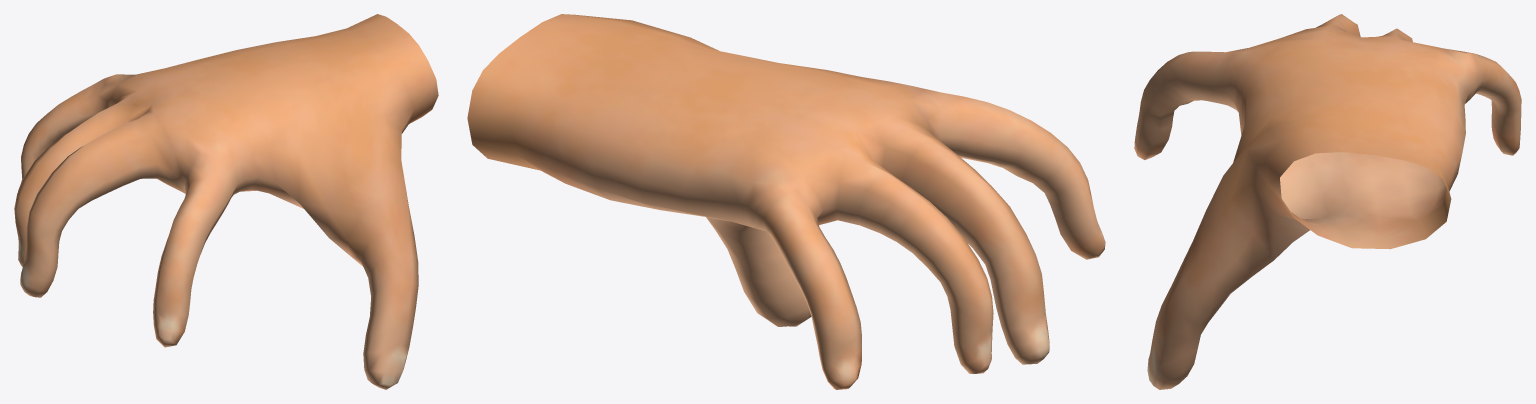
File: H_sphere_large.fbx
3 renders of one model, left to right at view 1: azimuth 30°, elevation 25°; view 2: azimuth 150°, elevation 25°; view 3: azimuth 270°, elevation 25°, orthographic. The views are drawn at different scales.
Parts seen in each view (by area): view 1: H_sphere_large; view 2: H_sphere_large; view 3: H_sphere_large.
Boxes of the visible parts, <box> form: H_sphere_large: <box>14,14,438,389</box>; H_sphere_large: <box>467,14,1105,389</box>; H_sphere_large: <box>1134,14,1521,389</box>.
Bounding box in the file's own units: 17.91 × 11.56 × 13.95.
Materials: 1 (1 with a texture image).
